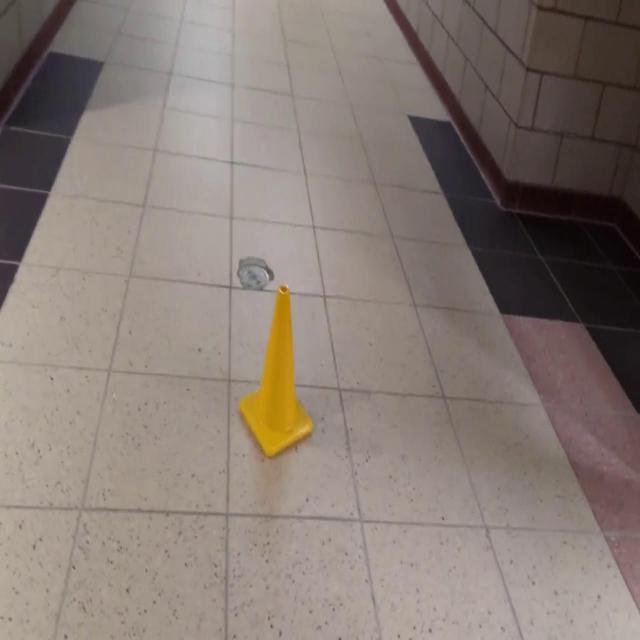frc_cone: (238, 284, 314, 458)
